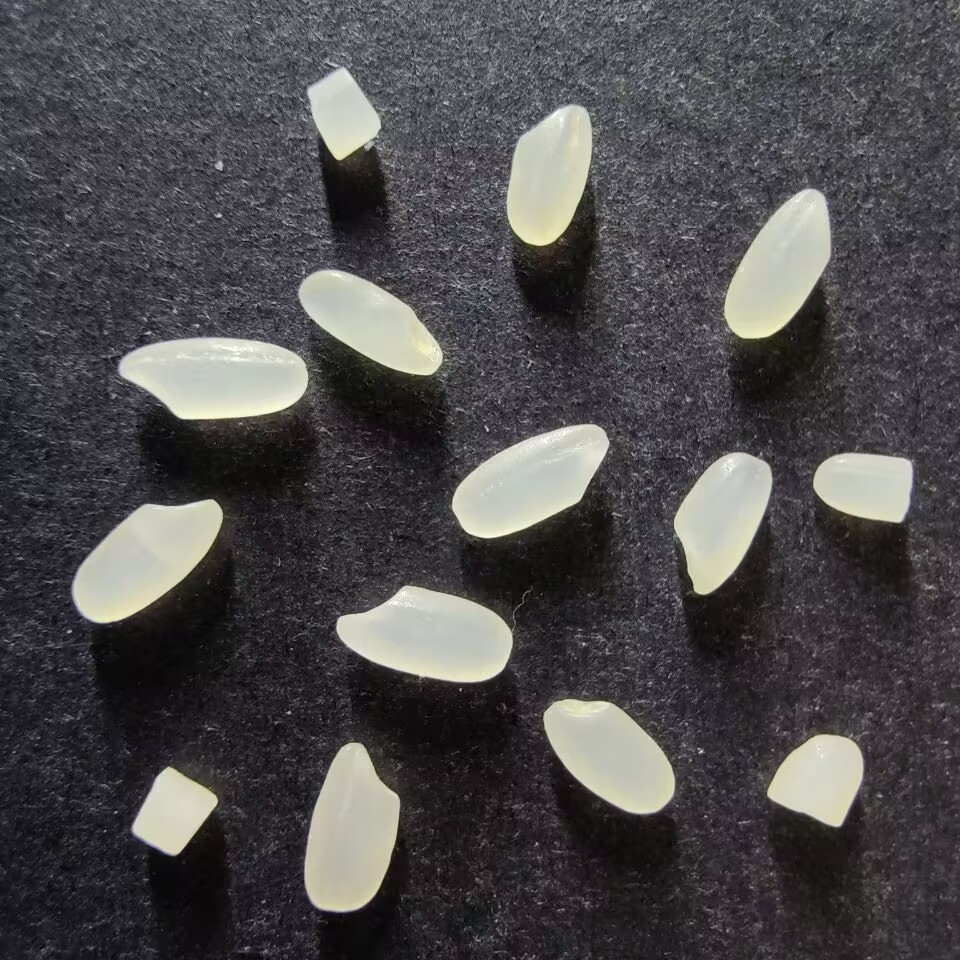broken: (765, 733, 863, 828), (130, 765, 217, 856), (811, 452, 912, 523), (305, 67, 380, 160)
rice: (70, 498, 223, 623), (450, 422, 609, 539), (335, 584, 512, 682), (302, 741, 401, 912), (722, 187, 832, 339), (117, 336, 306, 420), (542, 697, 675, 815), (297, 269, 441, 376), (671, 453, 772, 595), (505, 103, 592, 246)
